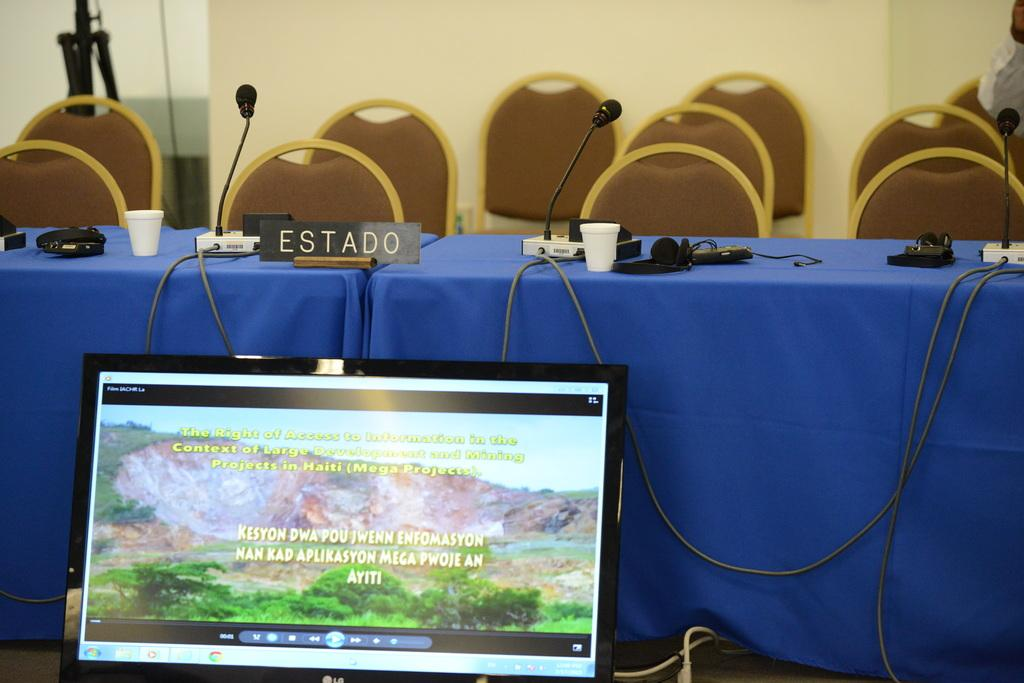Computer-monitor: (70, 358, 641, 683)
